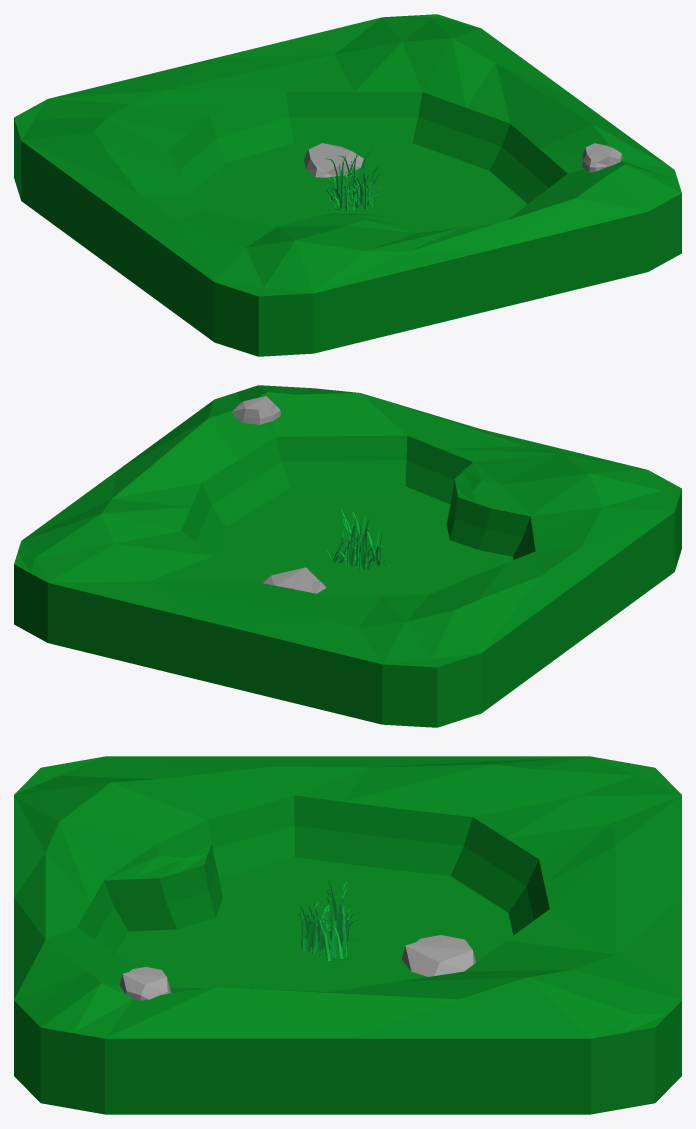
The model's file is pond.glb.
3 renders of one model, top to bottom at view 1: azimuth 30°, elevation 25°; view 2: azimuth 150°, elevation 25°; view 3: azimuth 270°, elevation 25°, orthographic. The views are drawn at different scales.
Visible parts, largest first — view 1: pond, stone_3, stone_3.001; view 2: pond, stone_3.001, stone_3; view 3: pond, stone_3, stone_3.001, Cattail.002, Cattail.003.
Part boxes in pixels (left/top/right/bottom): pond: left=14, top=14, right=681, bottom=356; stone_3: left=304, top=143, right=363, bottom=177; stone_3.001: left=581, top=143, right=622, bottom=172; pond: left=14, top=385, right=681, bottom=727; stone_3.001: left=232, top=396, right=280, bottom=424; stone_3: left=261, top=567, right=326, bottom=593; pond: left=14, top=756, right=681, bottom=1114; stone_3: left=401, top=935, right=475, bottom=976; stone_3.001: left=119, top=967, right=170, bottom=1000; Cattail.002: left=326, top=889, right=359, bottom=951; Cattail.003: left=316, top=913, right=356, bottom=962.
Size of the model in its own units: 6.13 by 1.06 by 6.13.
